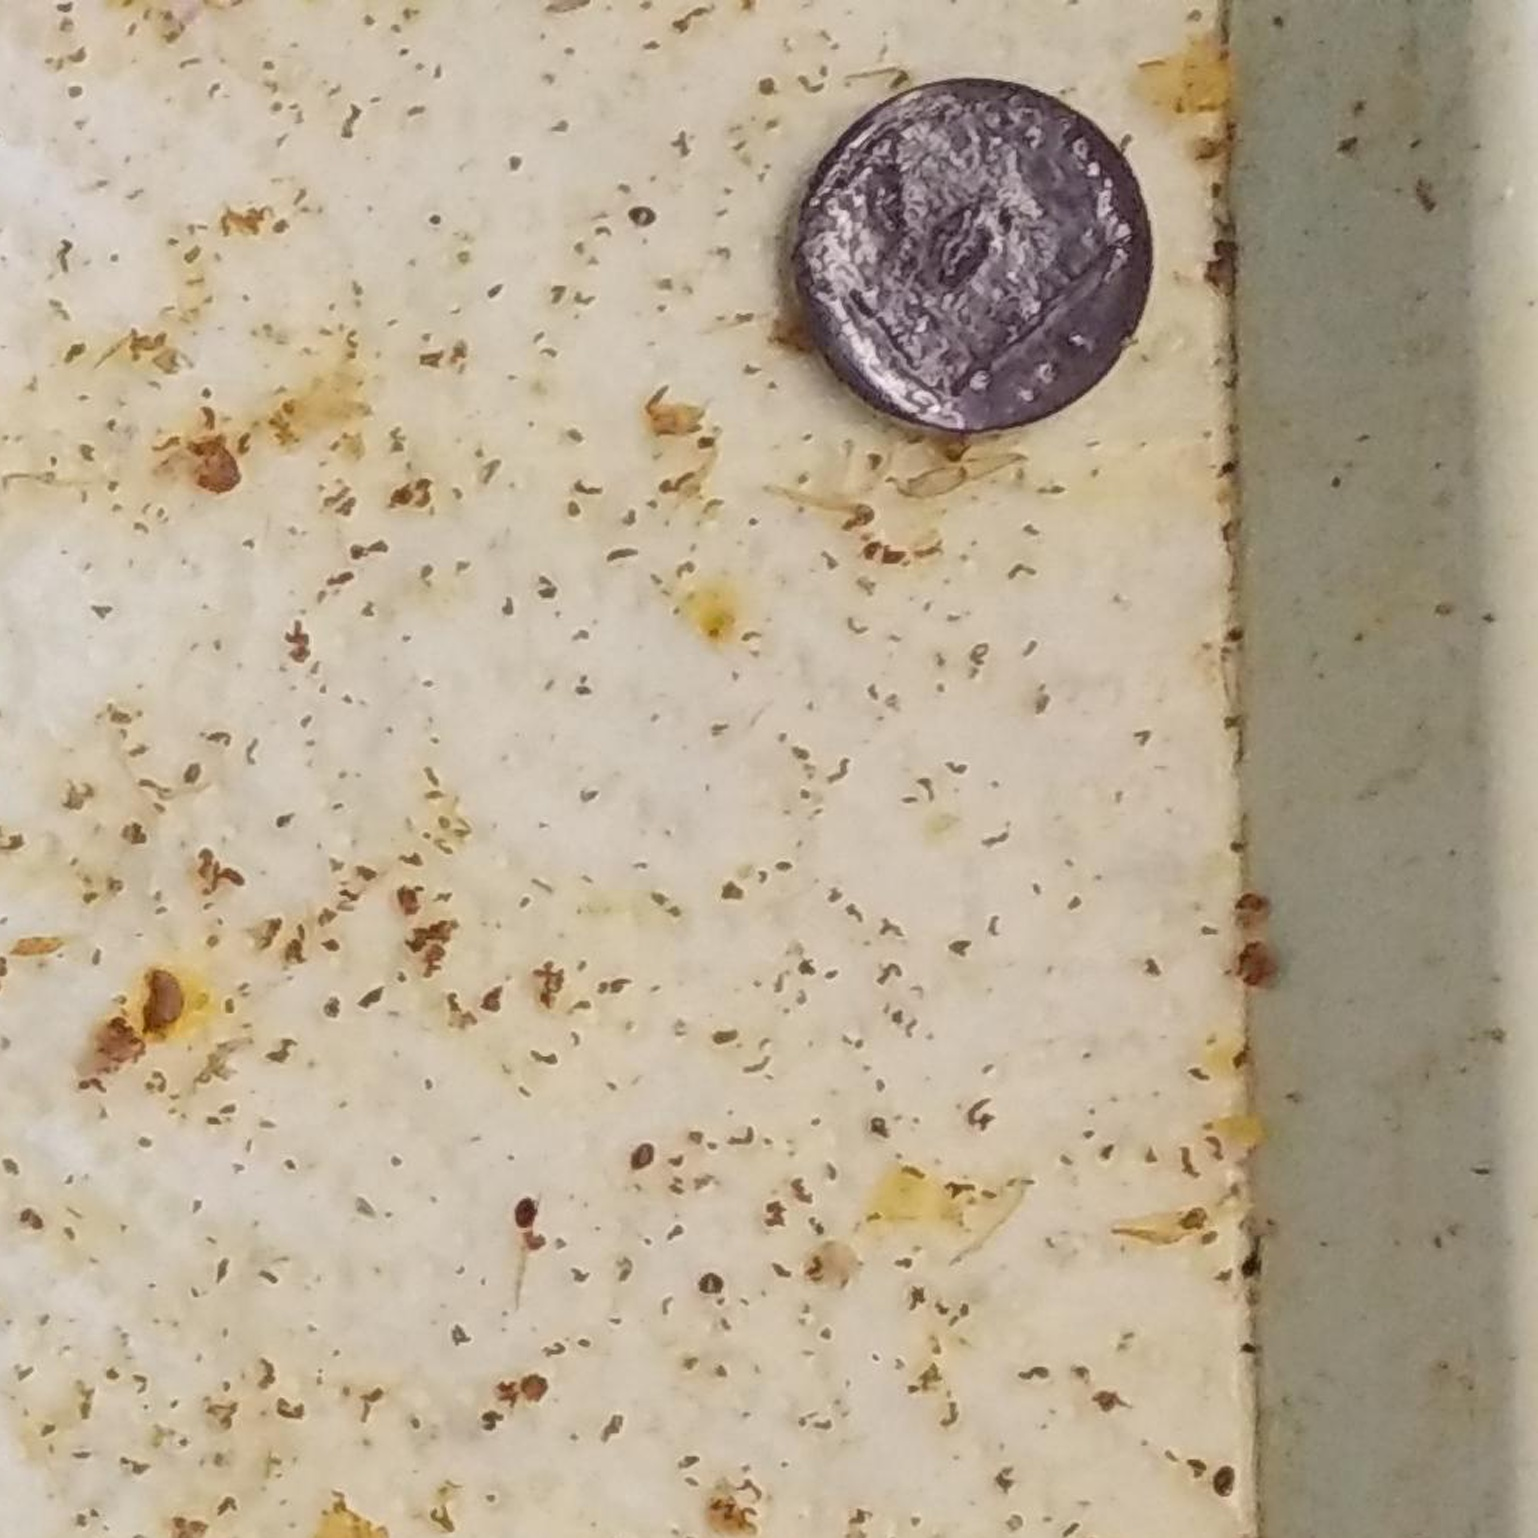Varroa: (624, 1137, 652, 1168), (517, 1194, 544, 1223), (1207, 1468, 1234, 1494), (627, 204, 652, 230)
